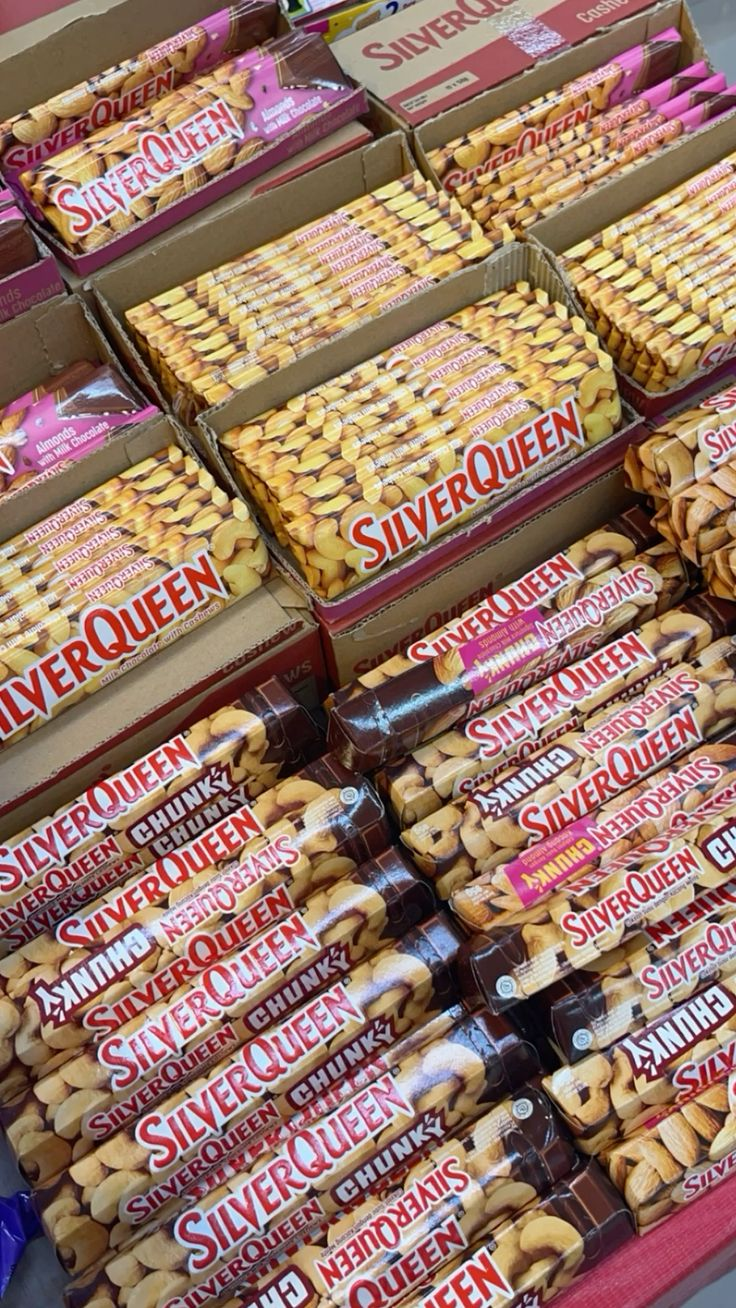SilverQueen: (333, 332, 618, 617)
